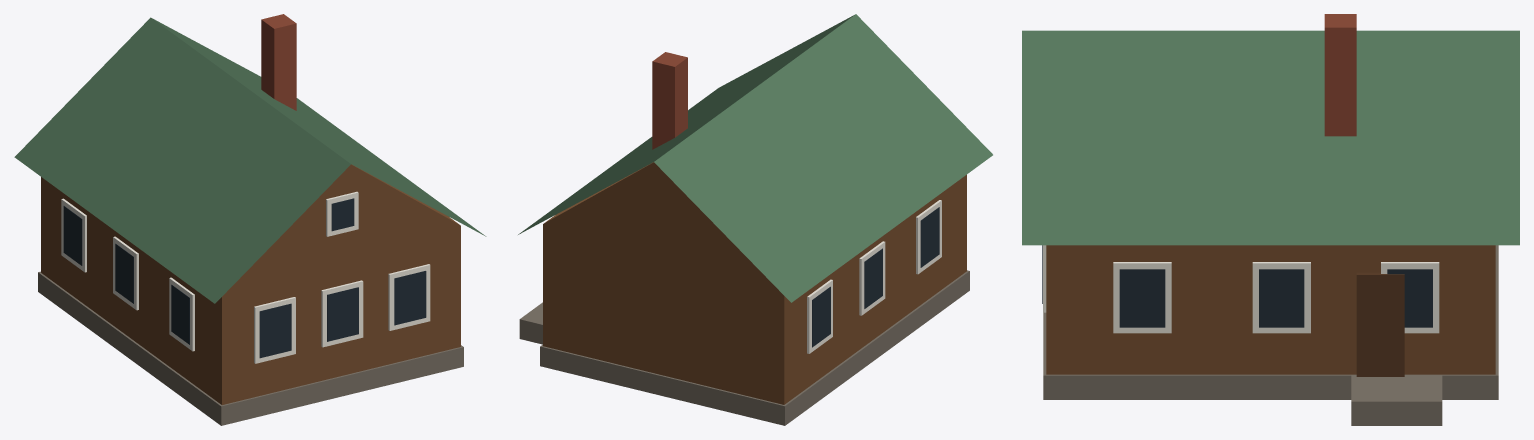
Rendered from izba_brown_green.glb.
The picture shows the model from 3 angles, left to right: view 1: azimuth 30°, elevation 25°; view 2: azimuth 150°, elevation 25°; view 3: azimuth 270°, elevation 25°; orthographic projection. The views are drawn at different scales.
Parts seen in each view (by area): view 1: izba_brown_green; view 2: izba_brown_green; view 3: izba_brown_green.
Part boxes in pixels (x1,y1,x2,y2): izba_brown_green: (14, 14, 486, 425); izba_brown_green: (518, 14, 992, 425); izba_brown_green: (1022, 14, 1519, 425).
Bounding box in the file's own units: 8.05 × 7 × 9.3.
